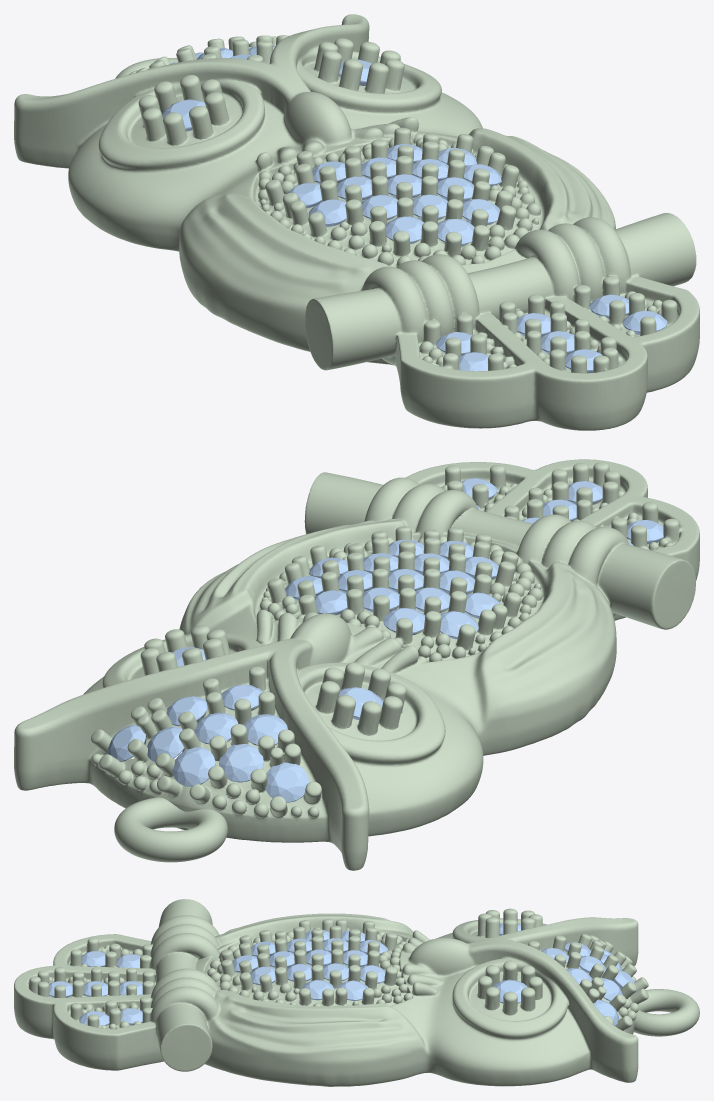
3 views of the same model, one above another, from view 1: azimuth 30°, elevation 25°; view 2: azimuth 150°, elevation 25°; view 3: azimuth 270°, elevation 25° (orthographic). The views are drawn at different scales.
Parts seen in each view (by area): view 1: Coruja Pingente.3dm, Gems (×3); view 2: Coruja Pingente.3dm, Gems (×12); view 3: Coruja Pingente.3dm, Gems (×8).
Boxes of the visible parts, <box> form: Coruja Pingente.3dm: <box>14,14,699,430</box>; Gems (×3): <box>308,199,474,245</box>; Coruja Pingente.3dm: <box>14,459,699,870</box>; Gems (×12): <box>107,590,478,802</box>; Coruja Pingente.3dm: <box>14,899,699,1086</box>; Gems (×8): <box>81,951,618,1025</box>.
Size of the model in its own units: 1.67 by 0.4858 by 3.6.
